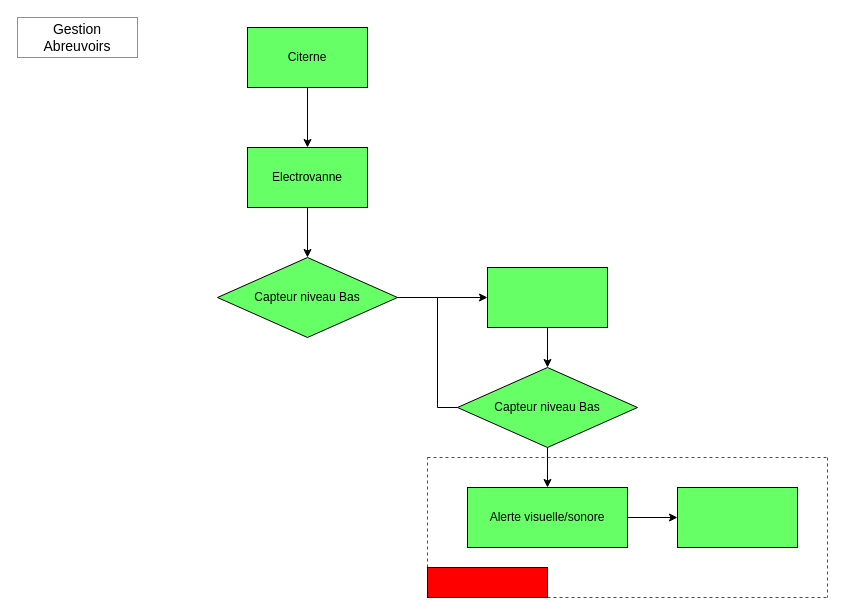
Some shapes in this 846 by 616 pixel diagram are drawn without their labels. Each missing label, with the centre of its shape:
"Envoie info" belongs at (x=737, y=517).
"Remplissage abreuvoirs" belongs at (x=547, y=297).
"Sur batterie" belongs at (x=487, y=582).
